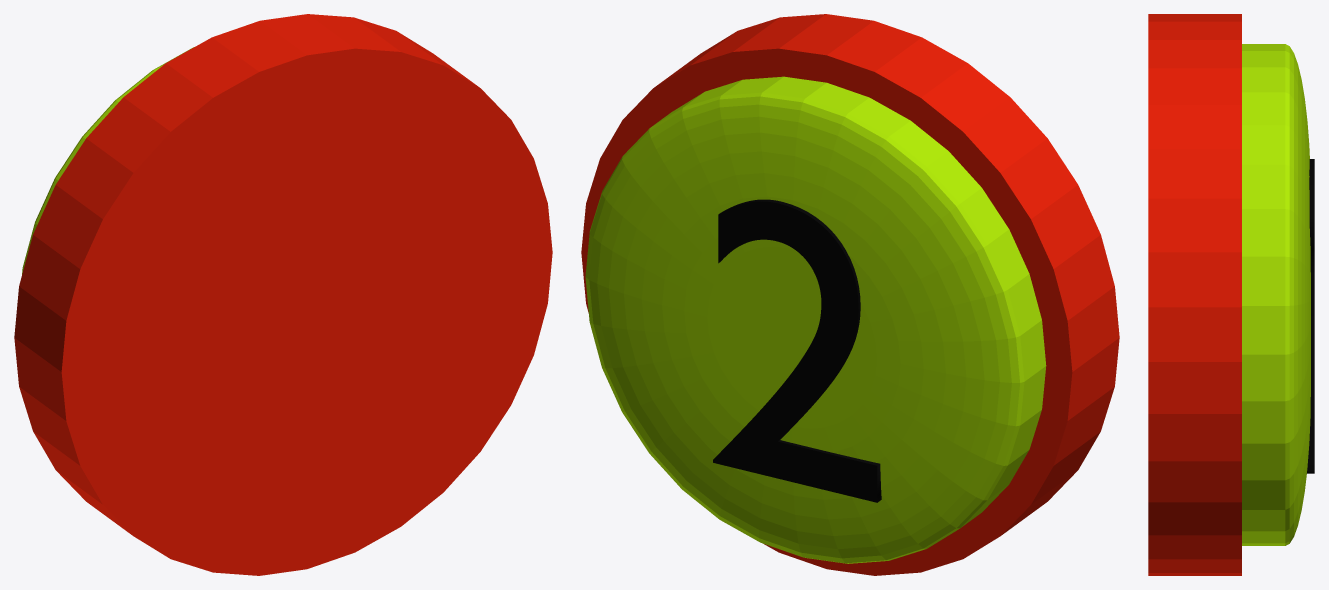
The model's file is two button.gltf.
The picture shows the model from 3 angles, left to right: view 1: azimuth 30°, elevation 25°; view 2: azimuth 150°, elevation 25°; view 3: azimuth 270°, elevation 25°; orthographic projection.
Parts seen in each view (by area): view 1: Cylinder; view 2: Cylinder, Text; view 3: Cylinder, Text.
Boxes of the visible parts, <box> form: Cylinder: <box>14,14,552,575</box>; Cylinder: <box>581,14,1119,575</box>; Text: <box>713,199,881,502</box>; Cylinder: <box>1148,14,1310,575</box>; Text: <box>1307,159,1314,473</box>.
Size of the model in its own units: 4.53 by 4.53 by 1.34.
